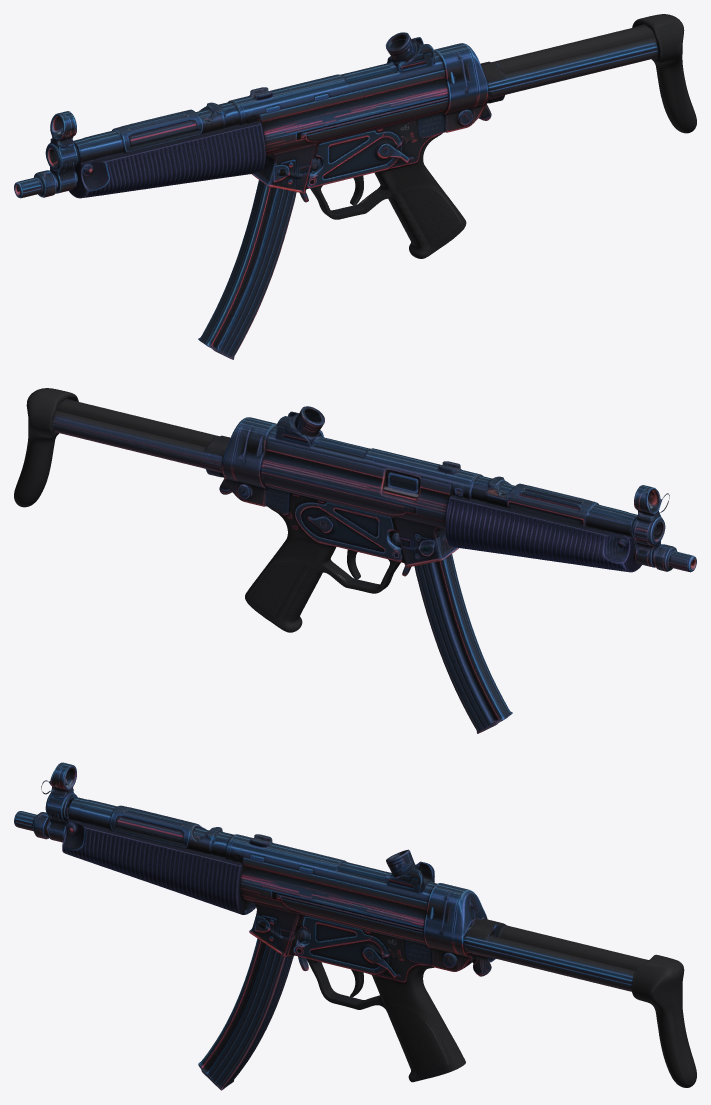
The model's file is Meshy_AI_mp5_1014151936_texture.glb.
3 views of the same model, one above another, from view 1: azimuth 30°, elevation 25°; view 2: azimuth 150°, elevation 25°; view 3: azimuth 330°, elevation 25° (orthographic).
Bounding box in the file's own units: 1.9 × 0.7552 × 0.1401.
1 material, 1 textured.
